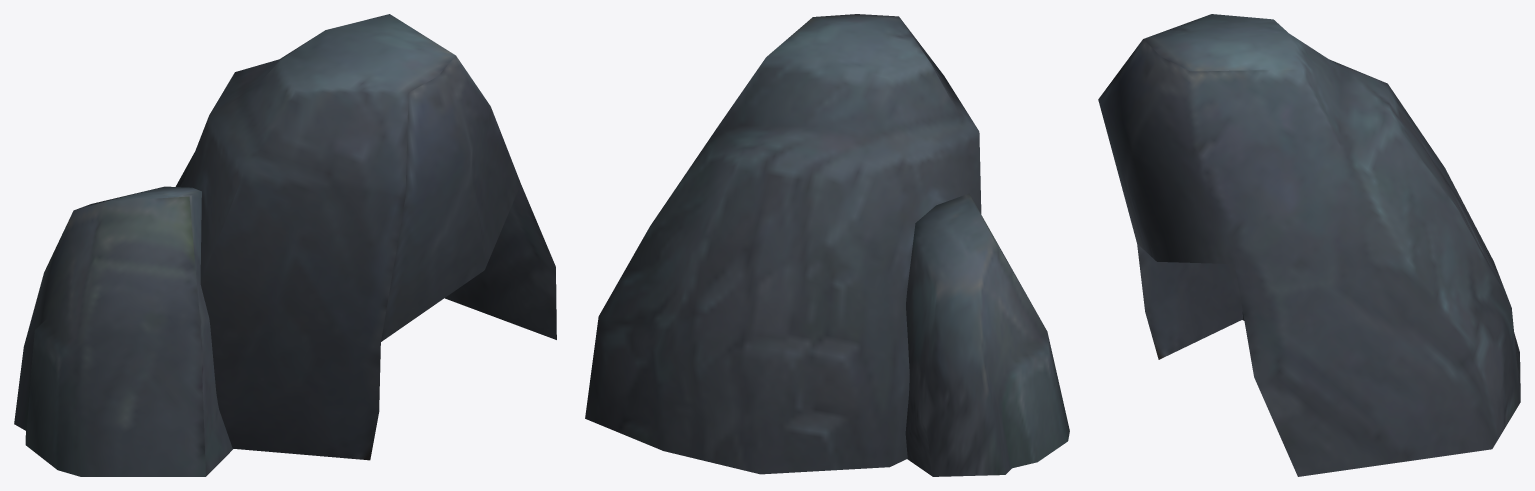
Rendered from Area_06_43.fbx.
3 renders of one model, left to right at view 1: azimuth 30°, elevation 25°; view 2: azimuth 150°, elevation 25°; view 3: azimuth 270°, elevation 25°, orthographic. The views are drawn at different scales.
Visible parts, largest first — view 1: Area_06_43; view 2: Area_06_43; view 3: Area_06_43.
Boxes of the visible parts, x1,y1,x2,y2 form: Area_06_43: (14,14,556,476); Area_06_43: (585,14,1069,476); Area_06_43: (1098,14,1520,476).
Size of the model in its own units: 1025 by 730 by 812.
